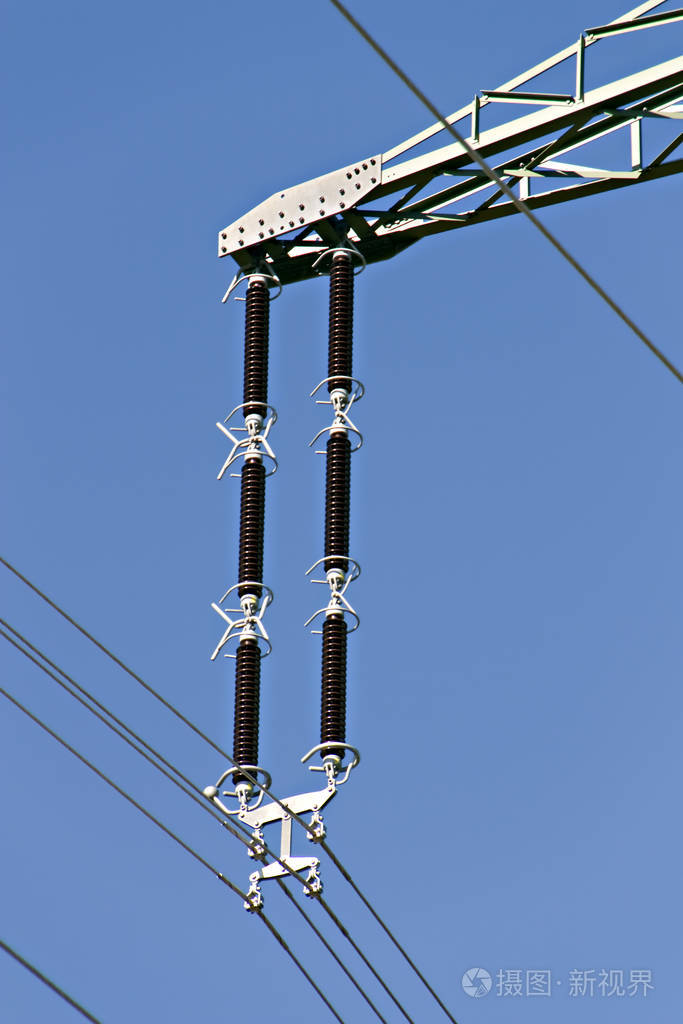insulator: (227, 644, 262, 778), (317, 618, 349, 755), (328, 256, 359, 388), (237, 459, 264, 595), (240, 287, 269, 410), (325, 431, 352, 563)
